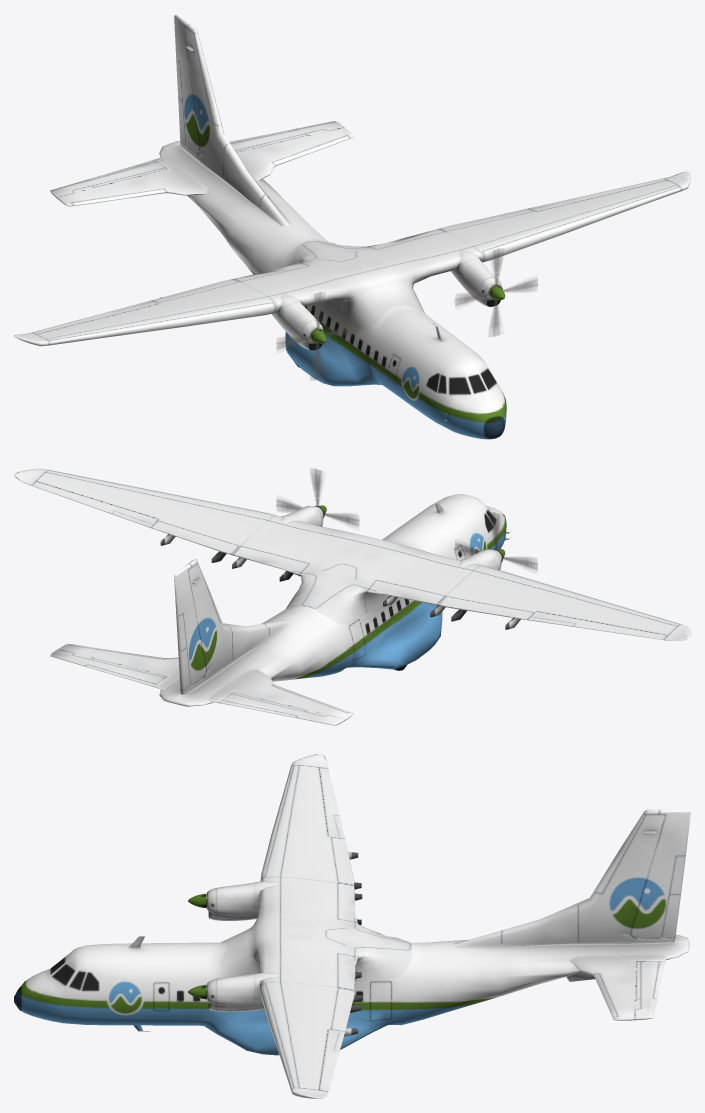
The model's file is Cesium_Air.gltf.
3 views of the same model, one above another, from view 1: azimuth 30°, elevation 25°; view 2: azimuth 150°, elevation 25°; view 3: azimuth 270°, elevation 25° (orthographic). The views are drawn at different scales.
Parts seen in each view (by area): view 1: Cesium_Air, Prop, Prop__2_; view 2: Cesium_Air, Prop__2_, Prop; view 3: Cesium_Air.
Boxes of the visible parts, x1,y1,x2,y2 form: Cesium_Air: [14, 14, 690, 439]; Prop: [276, 292, 359, 380]; Prop__2_: [455, 248, 537, 336]; Cesium_Air: [14, 468, 690, 725]; Prop__2_: [276, 469, 359, 526]; Prop: [455, 512, 537, 570]; Cesium_Air: [14, 754, 690, 1098].
Bounding box in the file's own units: 25.74 × 7.76 × 21.4.
Materials: 2 (2 with a texture image).
